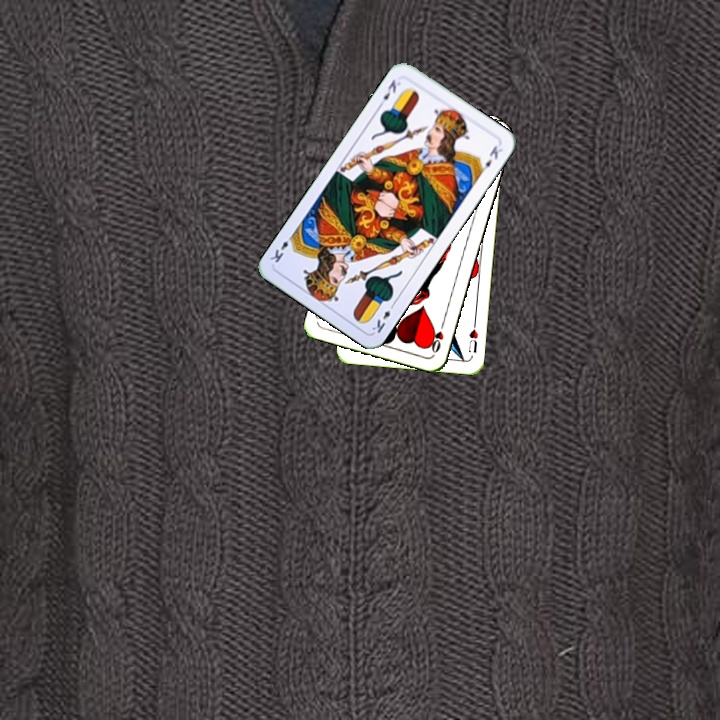EK: (368, 298, 398, 336), (374, 75, 403, 110)
HO: (426, 316, 447, 356)
HU: (465, 318, 481, 356)
